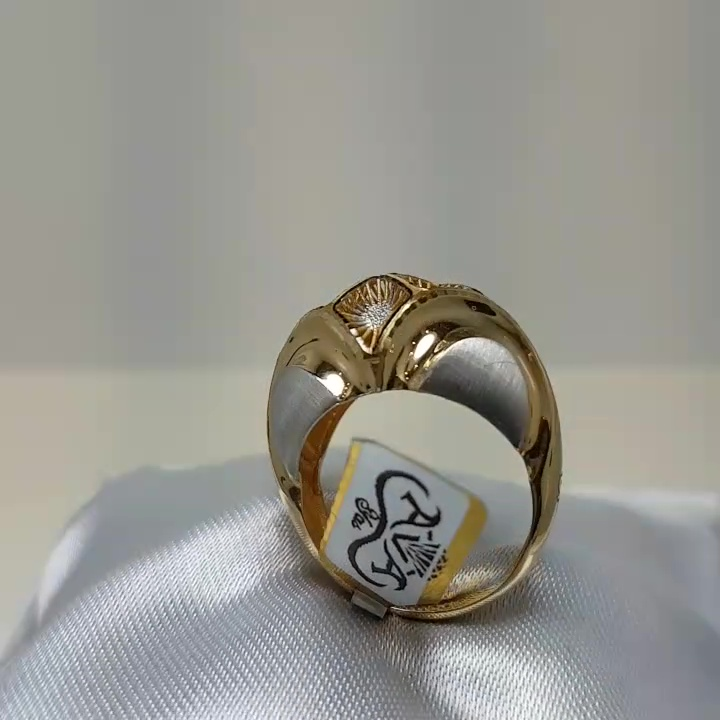Ring 2: (246, 240, 572, 625)
